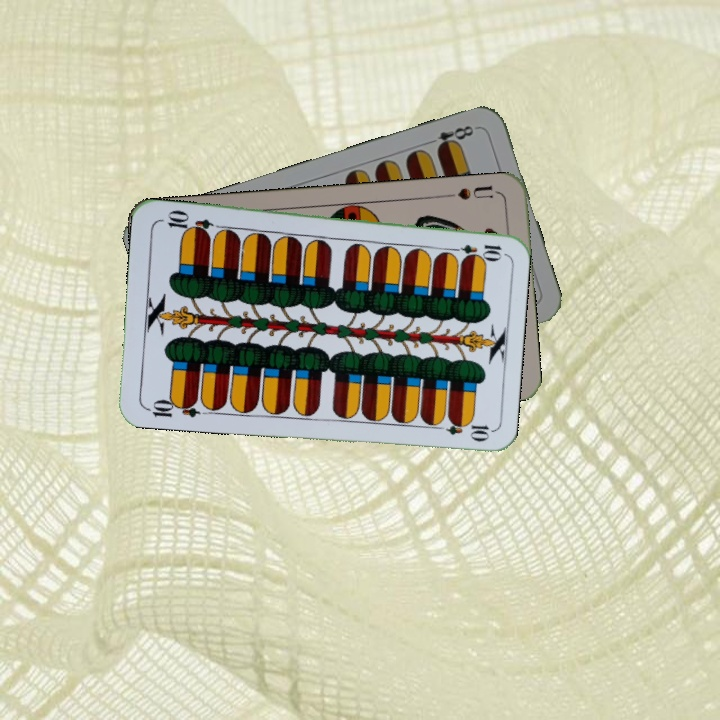E10: (142, 394, 201, 420), (445, 240, 504, 259)
E8: (422, 121, 480, 154)
SU: (442, 181, 501, 203)
